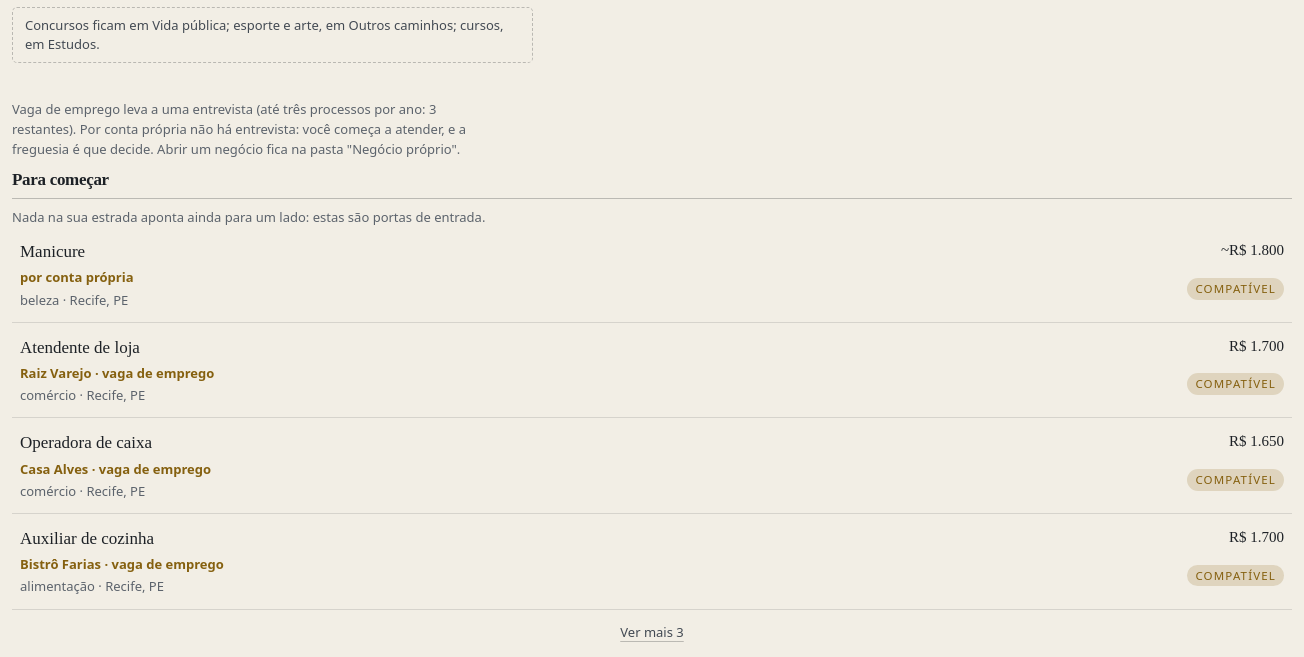
Fase A · UX-08 — a vaga é um anúncio legível › cargo longo, aviso longo: o anúncio aberto continua abaixo do resumo (nunca ao lado)
(page scrolled)
Click the button that starts with "Manicure" at (53, 252), box [12, 227, 1292, 322]
(page scrolled)
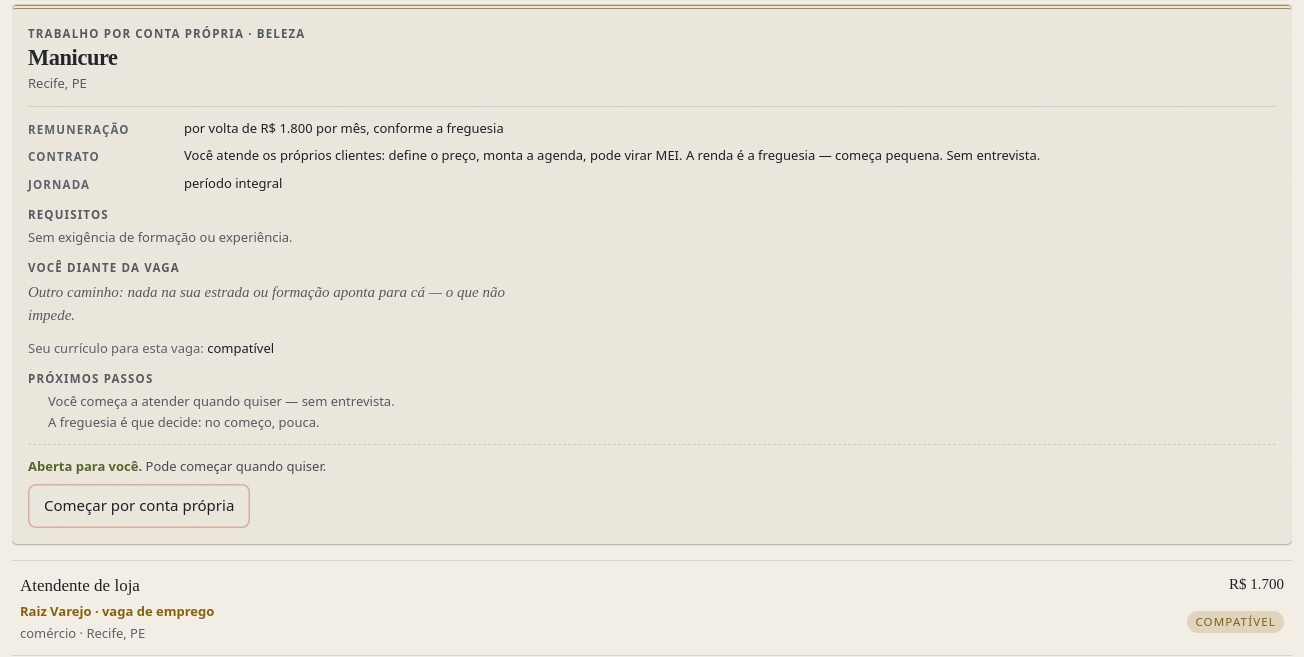
expect the element with class "anuncio" is shown: met
